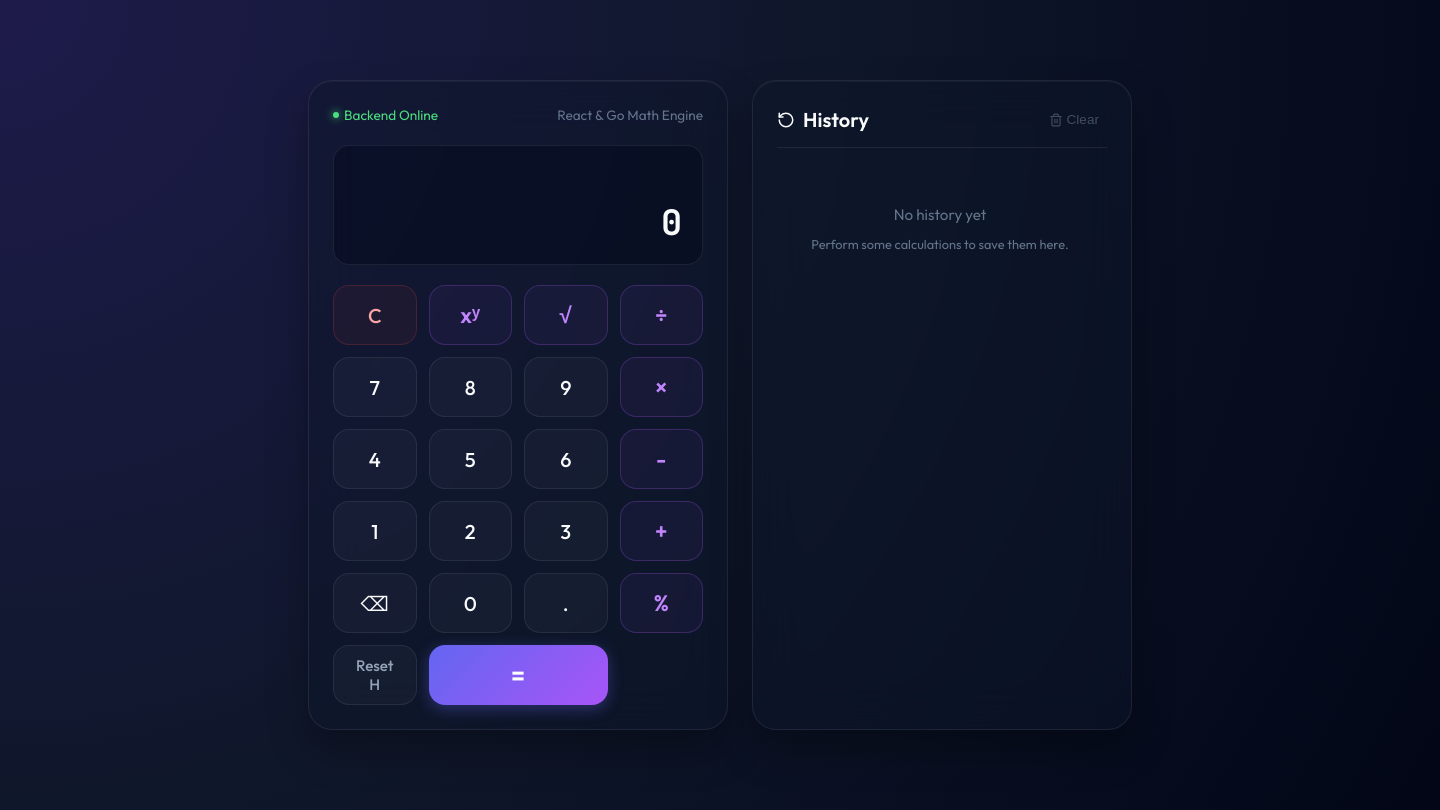
Test: Calculator Component › clears screen values when pressing Clear (C) button
Click the button "9": (566, 387) [524,357,608,417]
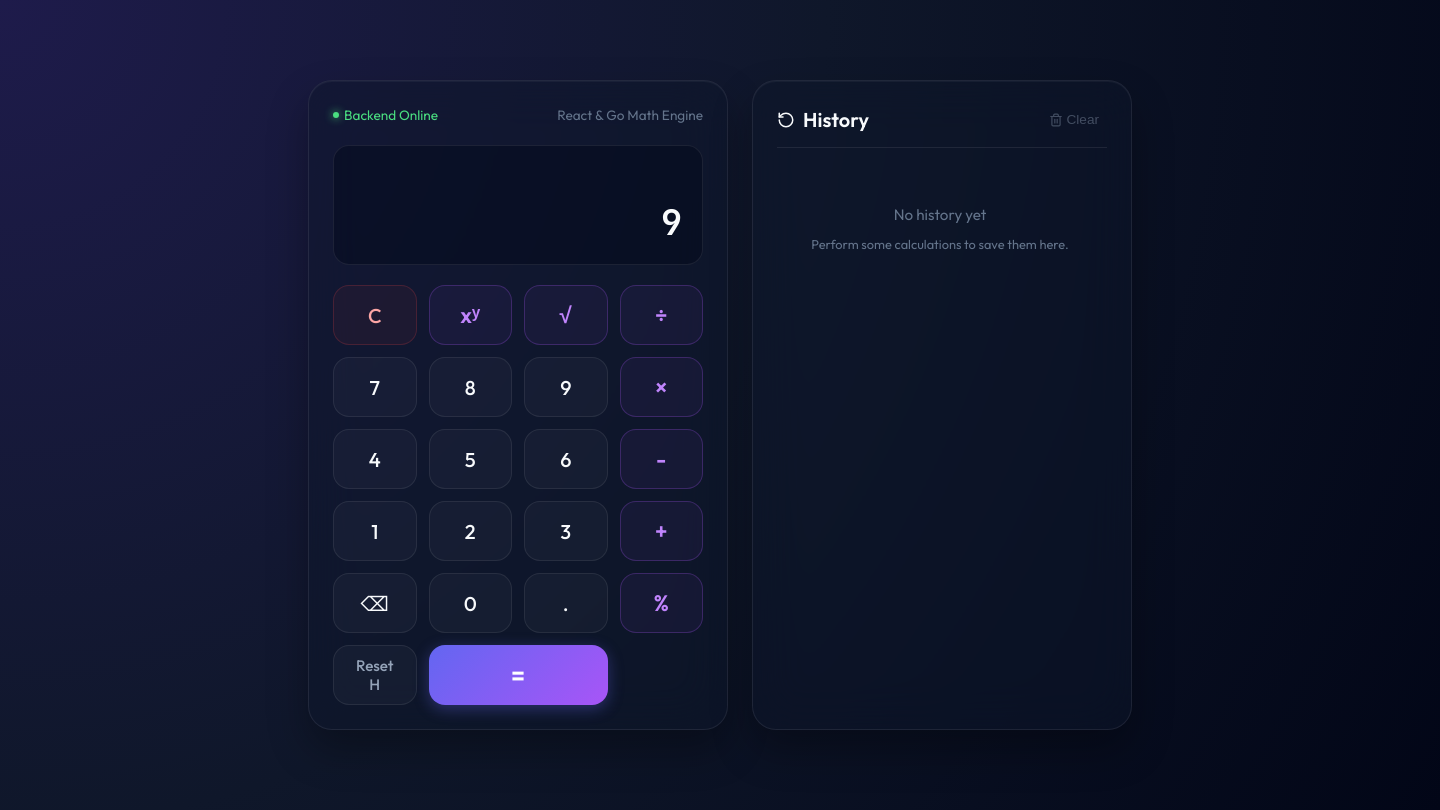
Expected: the text "9" is shown, [661,199,682,246]
Click the button "C": (375, 315) [333,285,416,345]
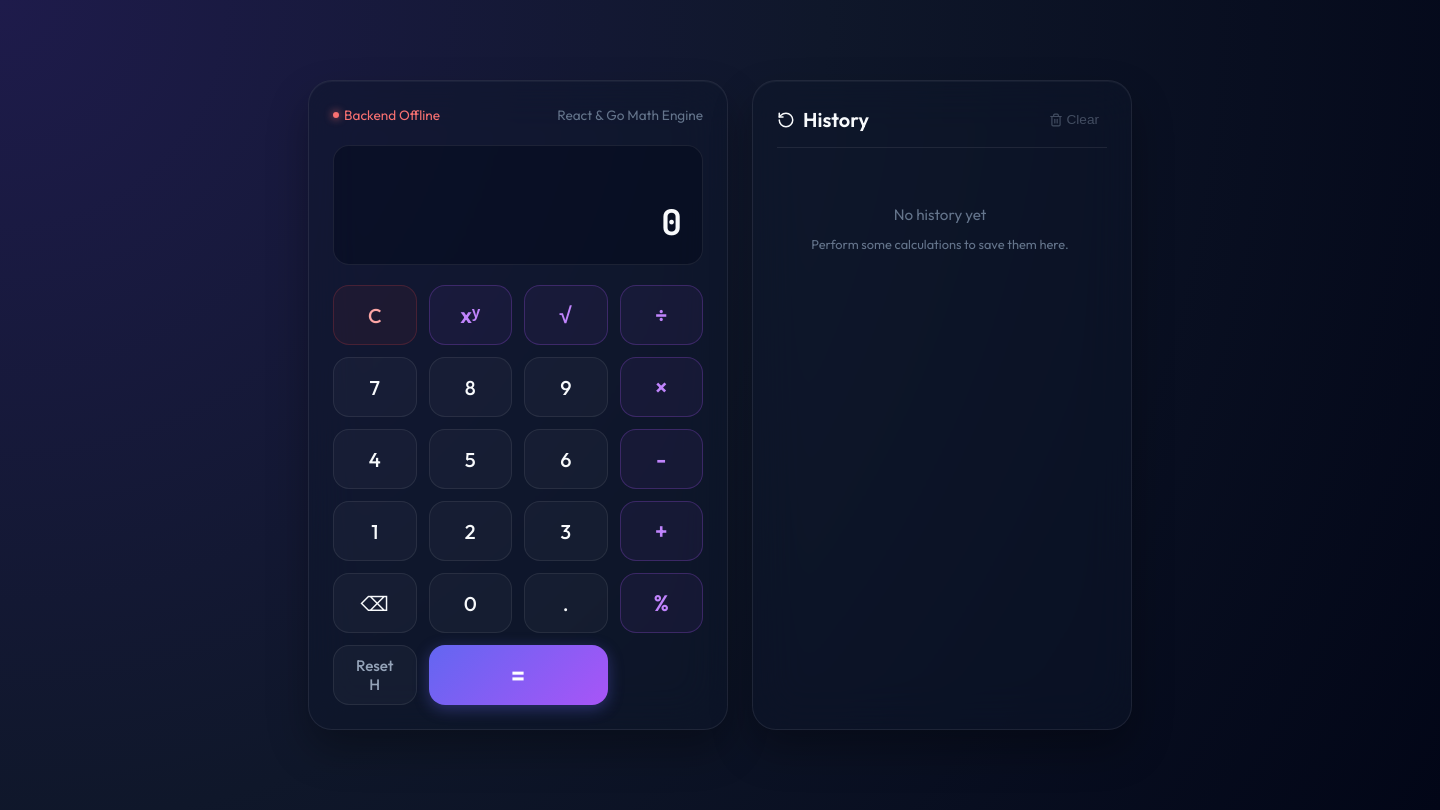
Expected: the text "0" is shown, [661,199,682,246]
